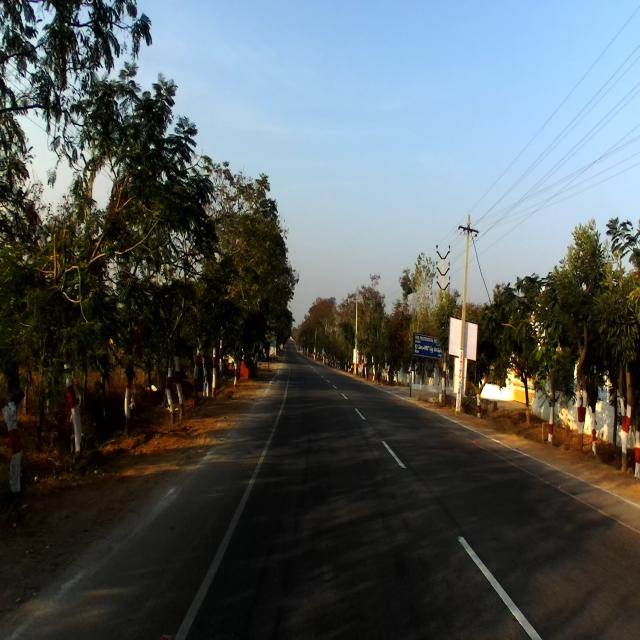electric pole ahead at: (456, 208, 476, 419)
